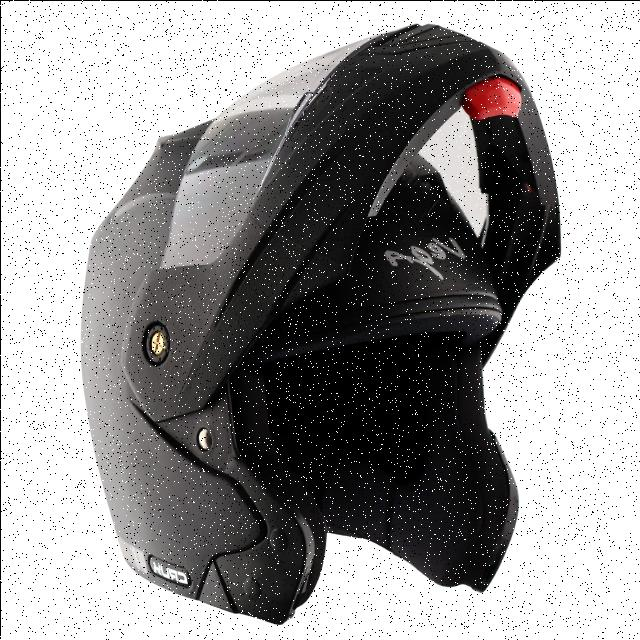Helmet: (69, 1, 631, 610)
